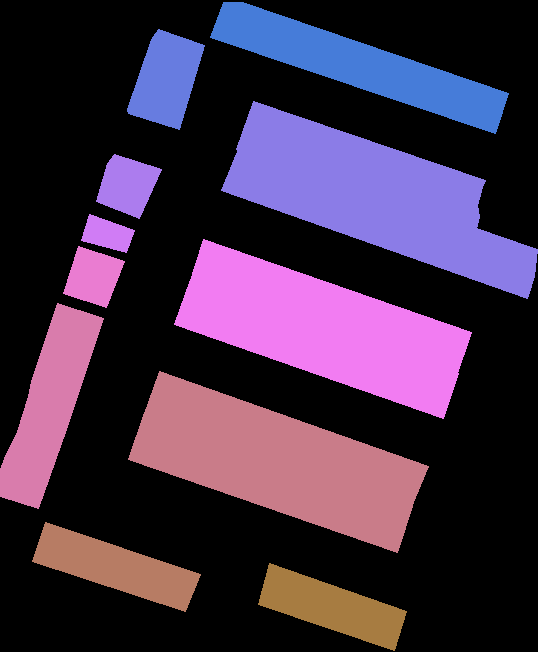parkingspot: (221, 146, 537, 298), (128, 412, 412, 552), (174, 279, 458, 418), (143, 371, 428, 509), (210, 2, 508, 133), (189, 239, 471, 376), (236, 101, 485, 232), (0, 303, 103, 508), (32, 522, 200, 611), (258, 563, 406, 650), (127, 29, 204, 129), (96, 154, 161, 218), (63, 246, 124, 307), (81, 214, 134, 252)
